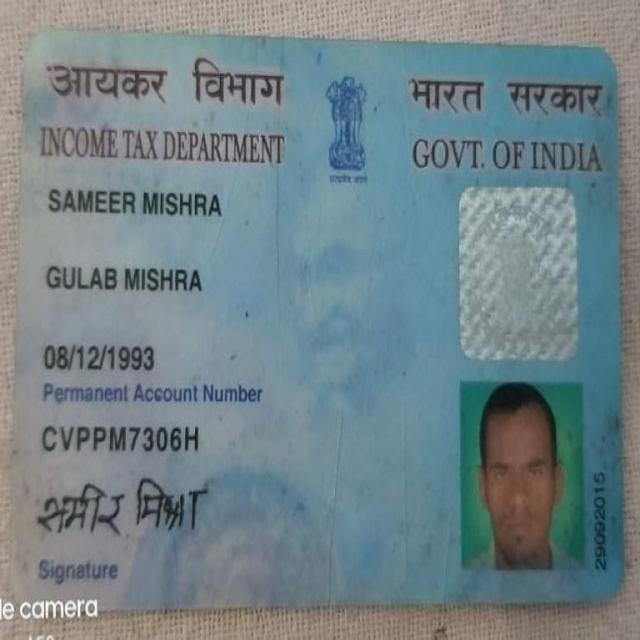pan_card: (18, 36, 617, 599)
